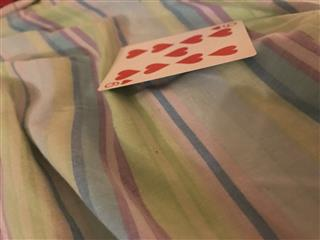NineOfHearts: (95, 19, 257, 92)
